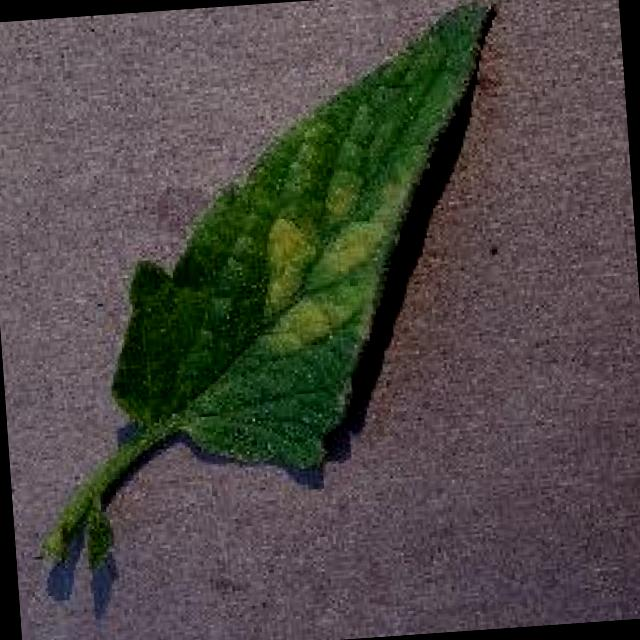leaf mold: (41, 0, 490, 550)
